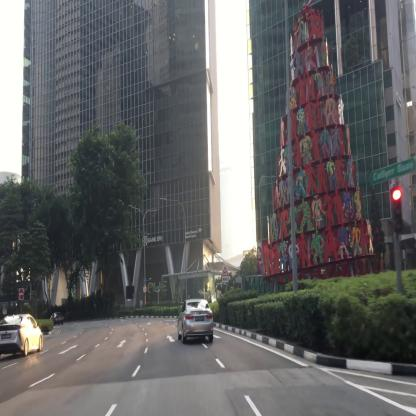red_traffic_light: (392, 188, 403, 233)
